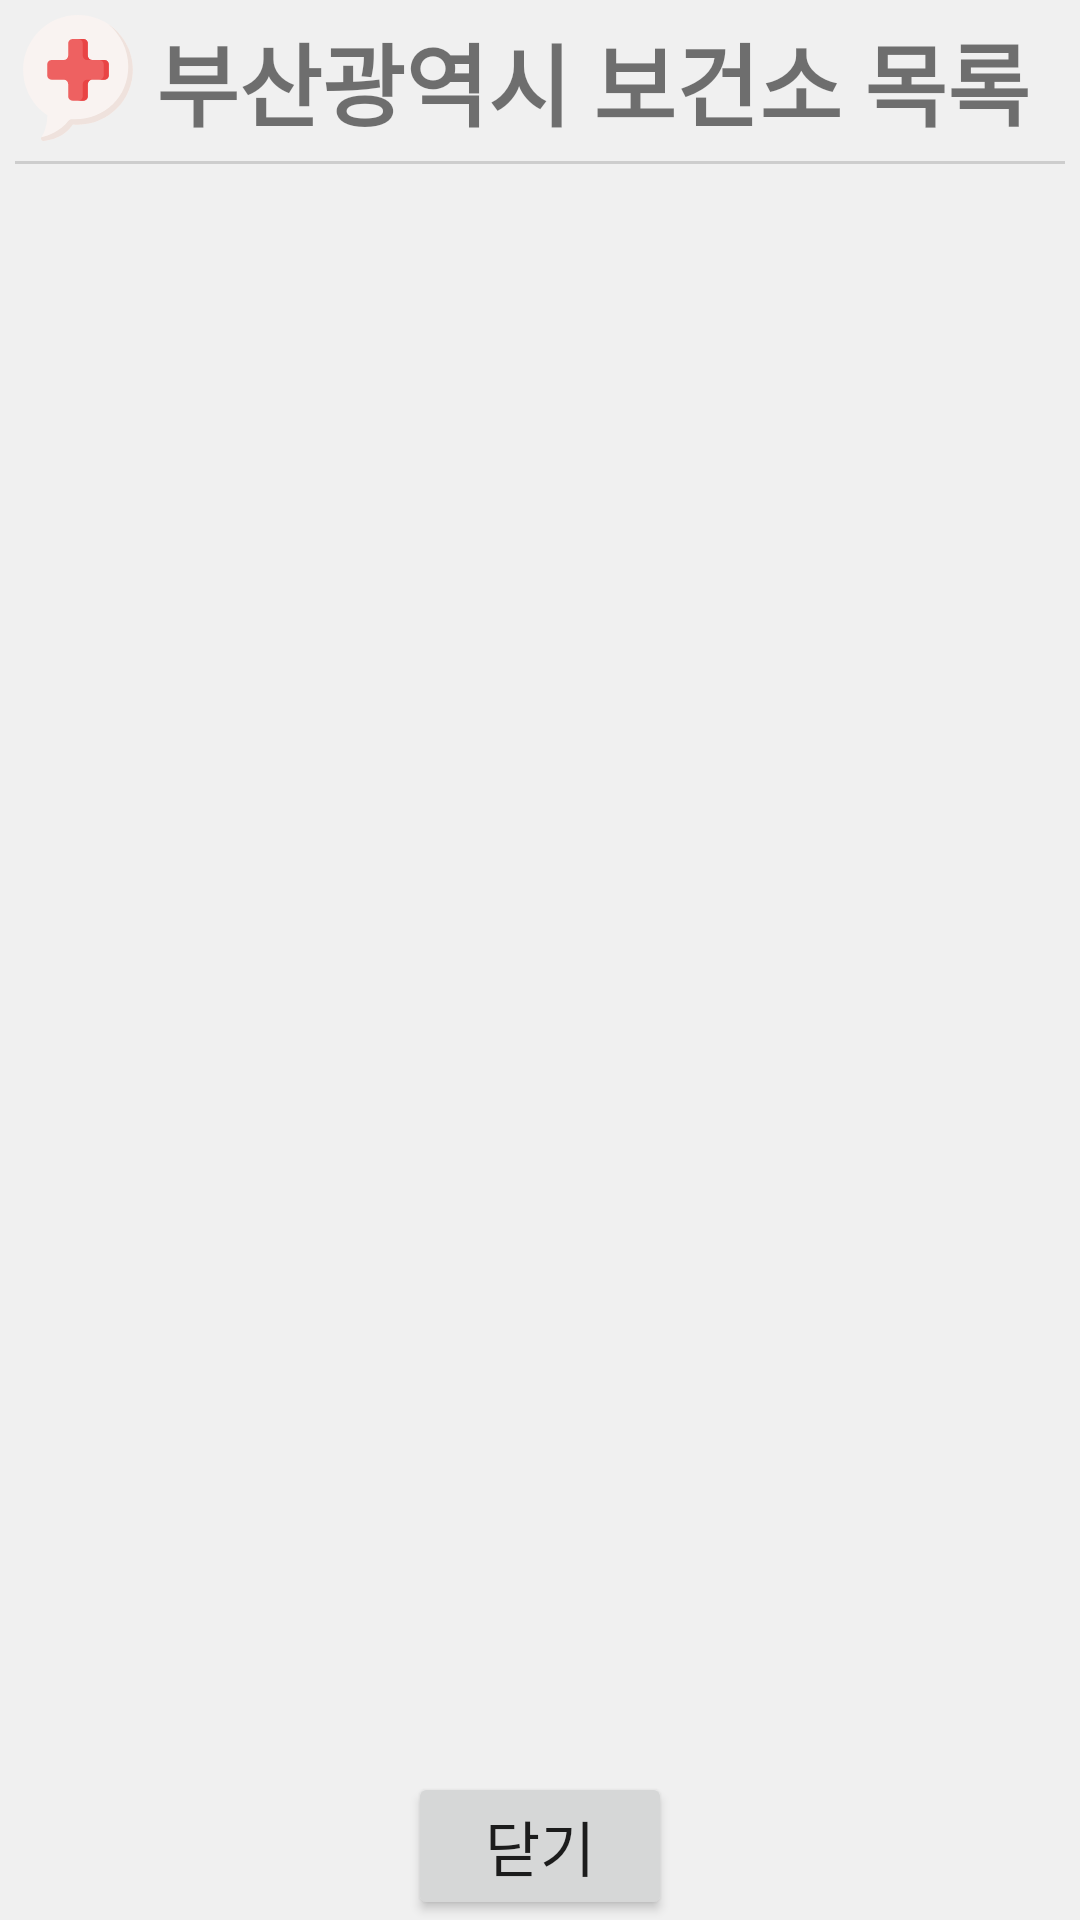

Icons on this 1080px×1920px Android screen, each with the point to tap as (x=x, y=y):
pharmacy: (x=78, y=70)
